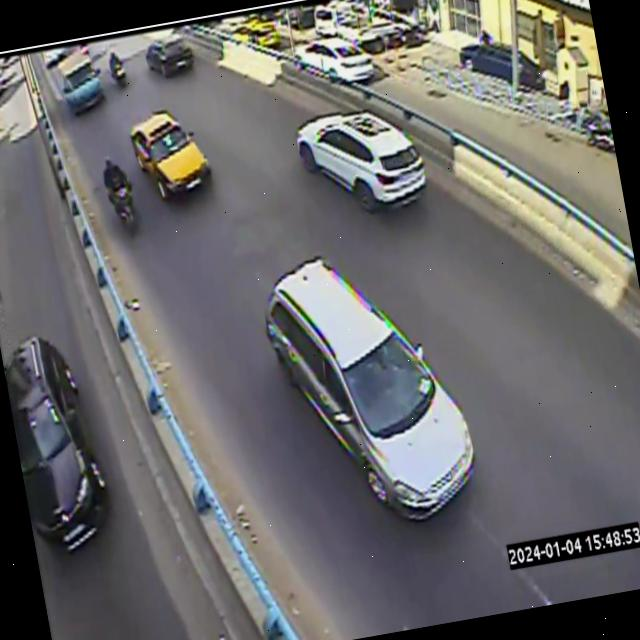car: (264, 257, 473, 517), (296, 111, 425, 211), (129, 110, 210, 199), (296, 37, 373, 80), (56, 51, 103, 113), (145, 33, 193, 76)
